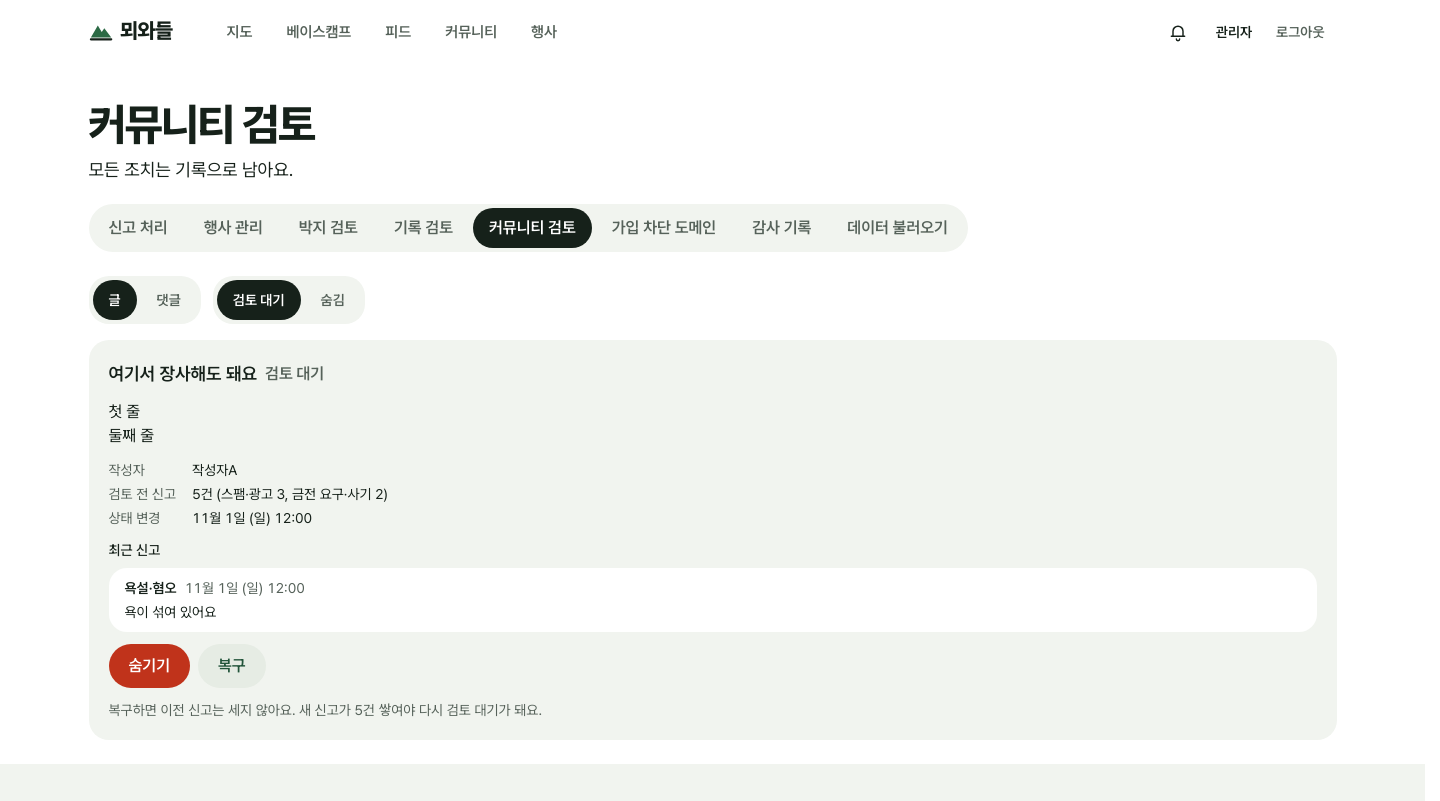
Scenario: 관리자 커뮤니티 검토 › 댓글로 바꾸면 댓글 API를 부르고 달린 글 번호를 보여 준다
The image size is (1440, 801).
Click the button "댓글": x=169, y=300 [141,280,197,320]
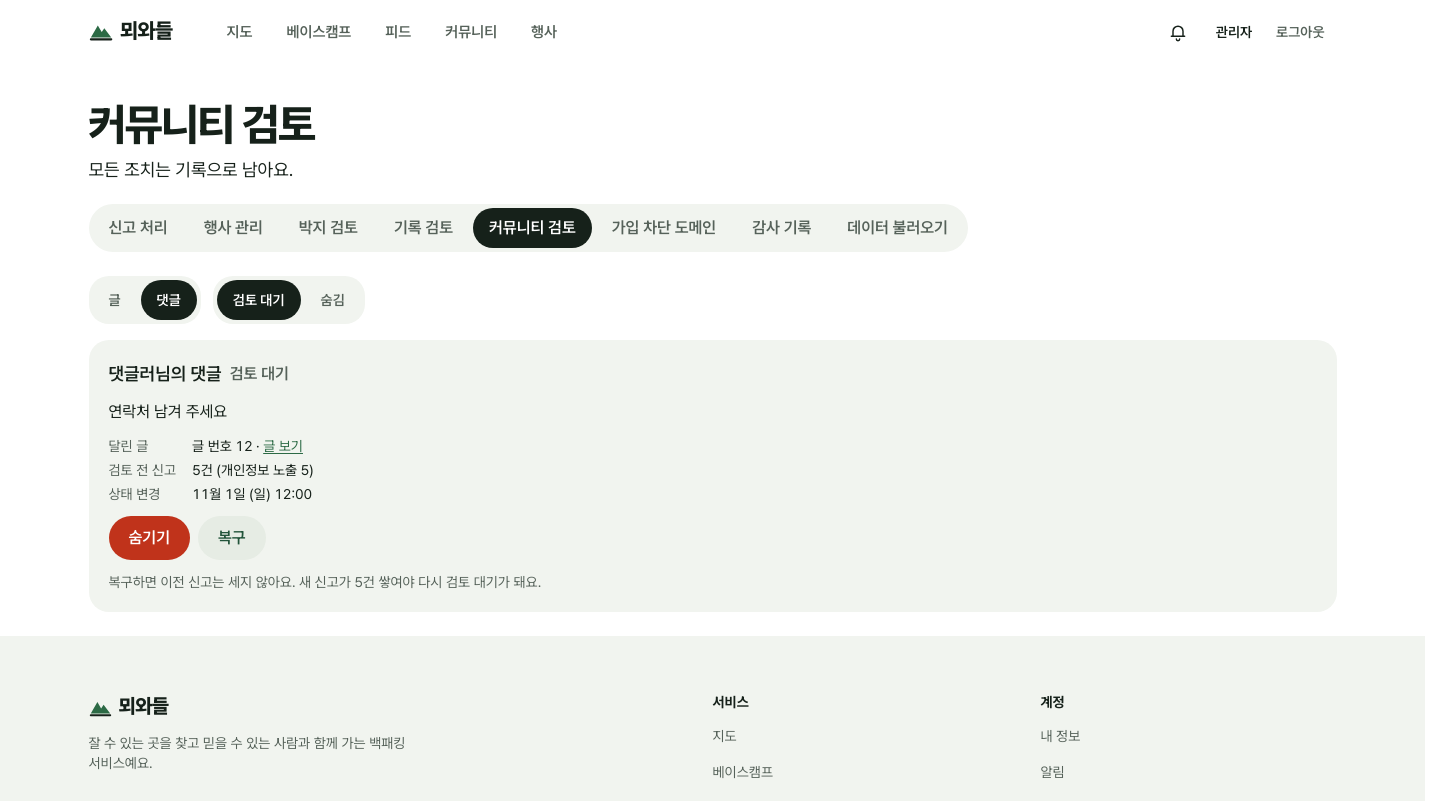
Expected: the text "댓글러님의 댓글" is shown, [108,360,222,388]
Expected: the text "연락처 남겨 주세요" is shown, [108,402,227,421]
Expected: the text "글 번호 12" is shown, [192,438,303,454]
